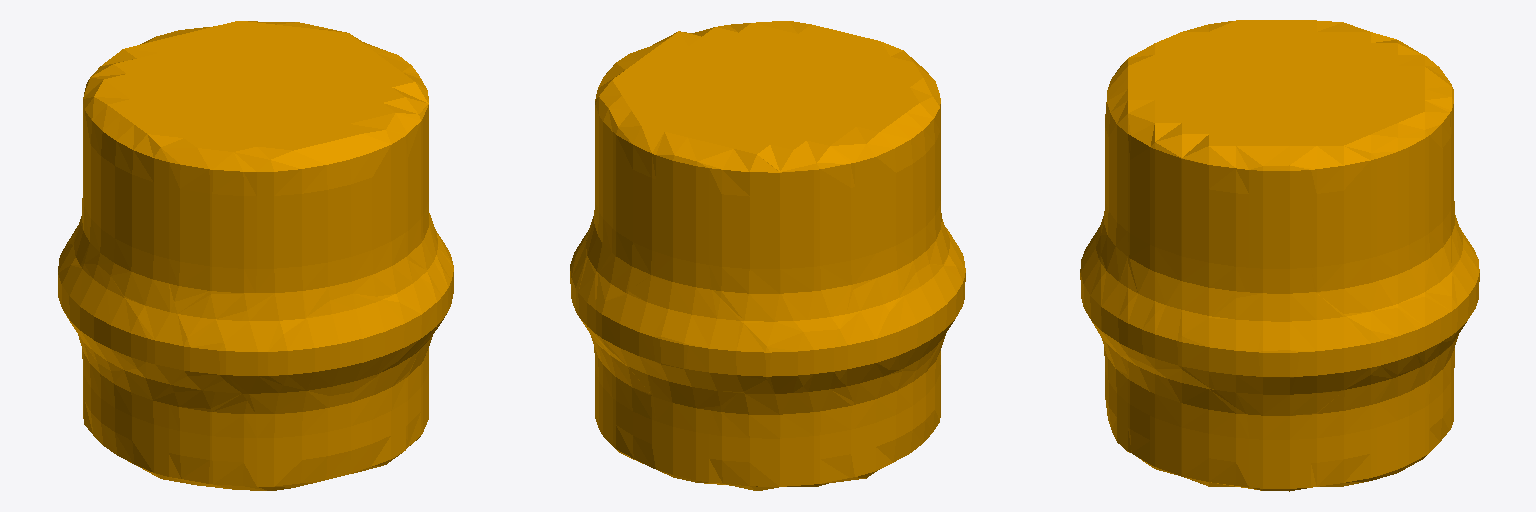
The robot description file, URDF, robot "cylinder_../../meshes/cylinders/cylinder_64.stl":
<?xml version="1.0" encoding="utf-8"?>  <robot name="cylinder_../../meshes/cylinders/cylinder_64.stl">   <link name="cylinder_../../meshes/cylinders/cylinder_64.stl">     <visual>       <geometry>         <mesh filename="../meshes/cylinders/cylinder_64.stl" scale="1 1 1"/>       </geometry>     </visual>     <collision>       <geometry>         <mesh filename="../meshes/cylinders/cylinder_64.stl" scale="1 1 1"/>       </geometry>     </collision>     <inertial>        <origin         xyz="0 0 0"         rpy="0 0 0" />       <mass value="0.24146539697070185"/>       <origin rpy="0 0 0" xyz="0 0 0"/>       <inertia ixx="0.00015882936218166474" ixy="-3.939605020822779e-08" ixz="1.6939513695625674e-08" iyy="0.00015882880840602023" iyz="7.902271192053475e-09" izz="0.00013458850206604295"/>     </inertial>   </link>  </robot>

--- Facts derived from the render (not from the file) ---
Views: 3 orthographic renders of the robot side by side, from view 1: azimuth 30°, elevation 25°; view 2: azimuth 150°, elevation 25°; view 3: azimuth 270°, elevation 25°.
Model cylinder_../../meshes/cylinders/cylinder_64.stl with 1 links and 0 joints (none), rooted at cylinder_../../meshes/cylinders/cylinder_64.stl, posed every joint at zero.
Links seen in each view (by area): view 1: cylinder_../../meshes/cylinders/cylinder_64.stl; view 2: cylinder_../../meshes/cylinders/cylinder_64.stl; view 3: cylinder_../../meshes/cylinders/cylinder_64.stl.
Boxes of the visible links, x1,y1,x2,y2 form: cylinder_../../meshes/cylinders/cylinder_64.stl: (58, 21, 453, 490); cylinder_../../meshes/cylinders/cylinder_64.stl: (570, 21, 965, 490); cylinder_../../meshes/cylinders/cylinder_64.stl: (1080, 20, 1479, 491).
Size in the robot's own frame: 0.074 by 0.074 by 0.0697 metres.
Meshes: 1 distinct files referenced, 1 mesh visuals loaded (1 binary STL).